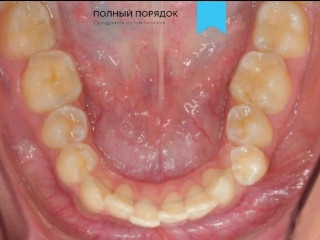LL1BC_healthy: (232, 145, 268, 182)
LL1M_healthy: (232, 50, 288, 110)
LL2BC_healthy: (228, 105, 275, 145)
LL2M_healthy: (254, 1, 309, 57)
LLCI_decay: (159, 191, 187, 224)
LLC_decay: (205, 168, 237, 204)
LLLI_decay: (184, 184, 215, 219)
LR1BC_decay: (64, 144, 93, 180)
LR1M_decay: (24, 51, 82, 105)
LR2BC_decay: (44, 106, 88, 143)
LR2M_healthy: (3, 3, 56, 53)
LRCI_decay: (135, 195, 159, 228)
LRC_decay: (82, 176, 107, 210)
LRLI_decay: (110, 182, 135, 220)
